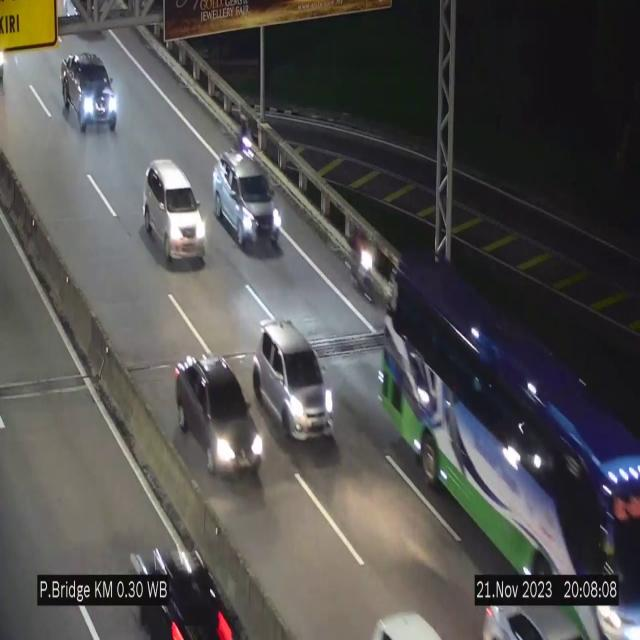Bus: (380, 249, 640, 638)
Car: (171, 351, 265, 483), (254, 323, 336, 441), (212, 153, 283, 251), (143, 160, 207, 268), (475, 579, 580, 640), (59, 50, 121, 137), (364, 602, 458, 640)
Motorcycle: (350, 221, 376, 307), (235, 112, 262, 172)
